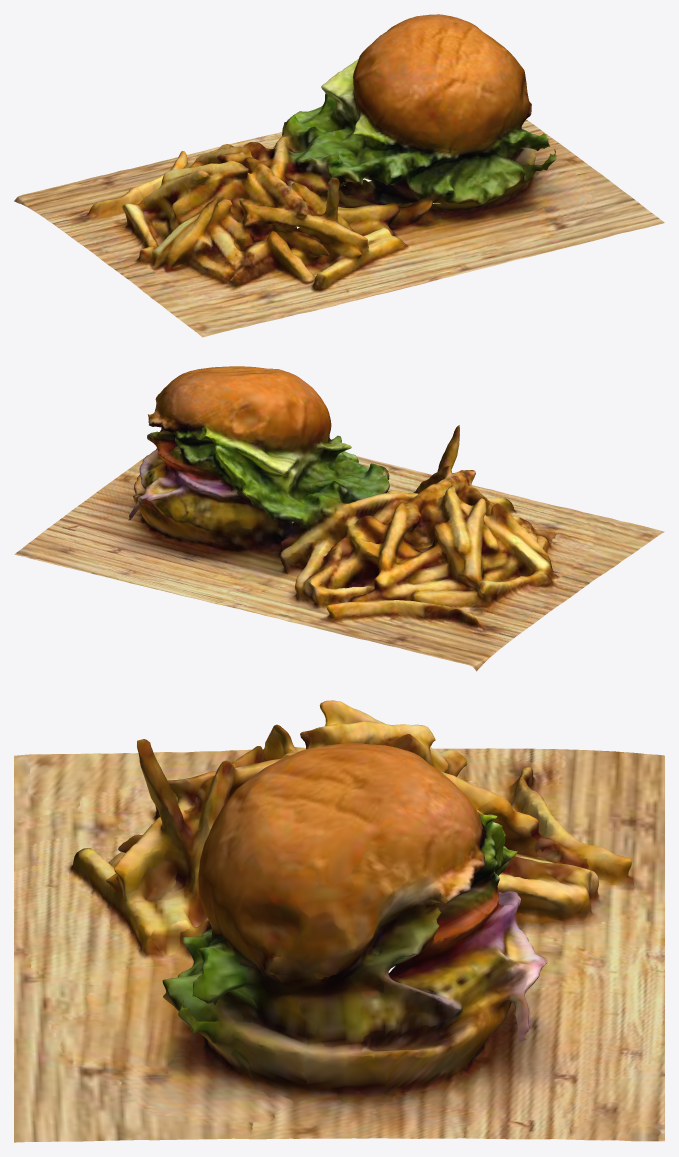
The model's file is hamburguer.glb.
3 renders of one model, top to bottom at view 1: azimuth 30°, elevation 25°; view 2: azimuth 150°, elevation 25°; view 3: azimuth 270°, elevation 25°, orthographic. The views are drawn at different scales.
Visible parts, largest first — view 1: Object_2; view 2: Object_2; view 3: Object_2.
Part boxes in pixels (<box>): Object_2: <box>14,14,664,337</box>; Object_2: <box>14,366,664,671</box>; Object_2: <box>14,700,664,1142</box>.
Size of the model in its own units: 0.3121 by 0.1015 by 0.2203.
Materials: 1 (1 with a texture image).
